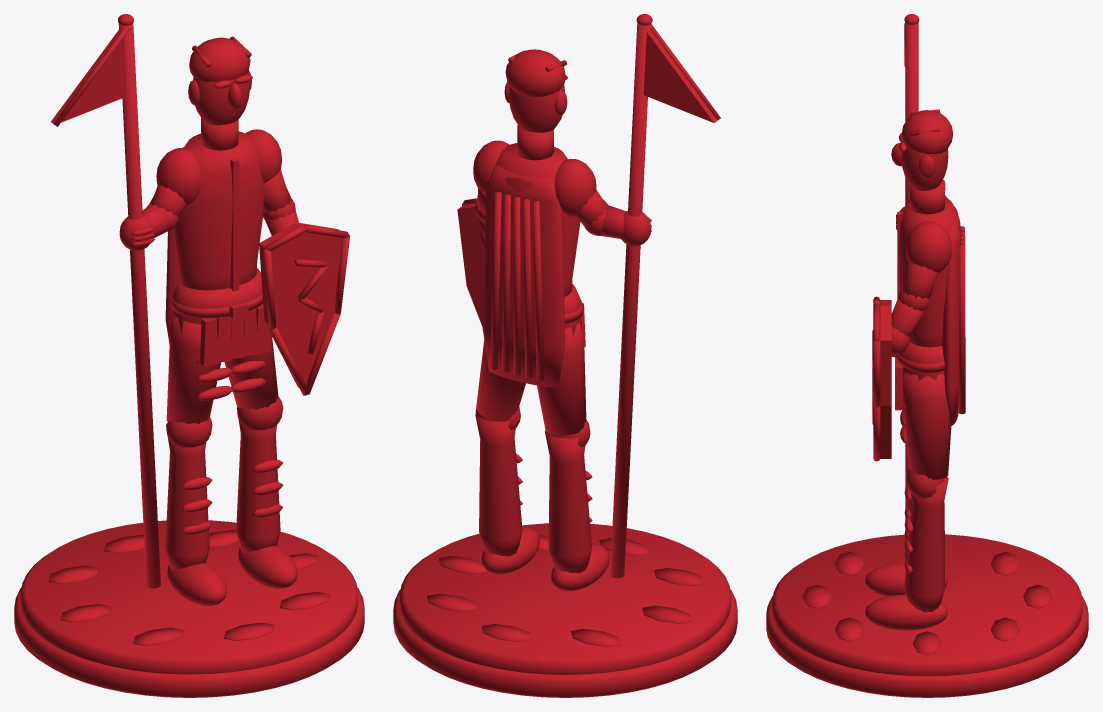
The model's file is knight-level-1-resting.fbx.
3 renders of one model, left to right at view 1: azimuth 30°, elevation 25°; view 2: azimuth 150°, elevation 25°; view 3: azimuth 270°, elevation 25°, orthographic. The views are drawn at different scales.
Parts seen in each view (by area): view 1: Knight_Level_1_Bare_Sculpt; view 2: Knight_Level_1_Bare_Sculpt; view 3: Knight_Level_1_Bare_Sculpt.
Part boxes in pixels (left/top/right/bottom): Knight_Level_1_Bare_Sculpt: left=14, top=14, right=364, bottom=697; Knight_Level_1_Bare_Sculpt: left=393, top=14, right=737, bottom=697; Knight_Level_1_Bare_Sculpt: left=766, top=14, right=1088, bottom=697.
Size of the model in its own units: 0.012 by 0.024 by 0.012.
